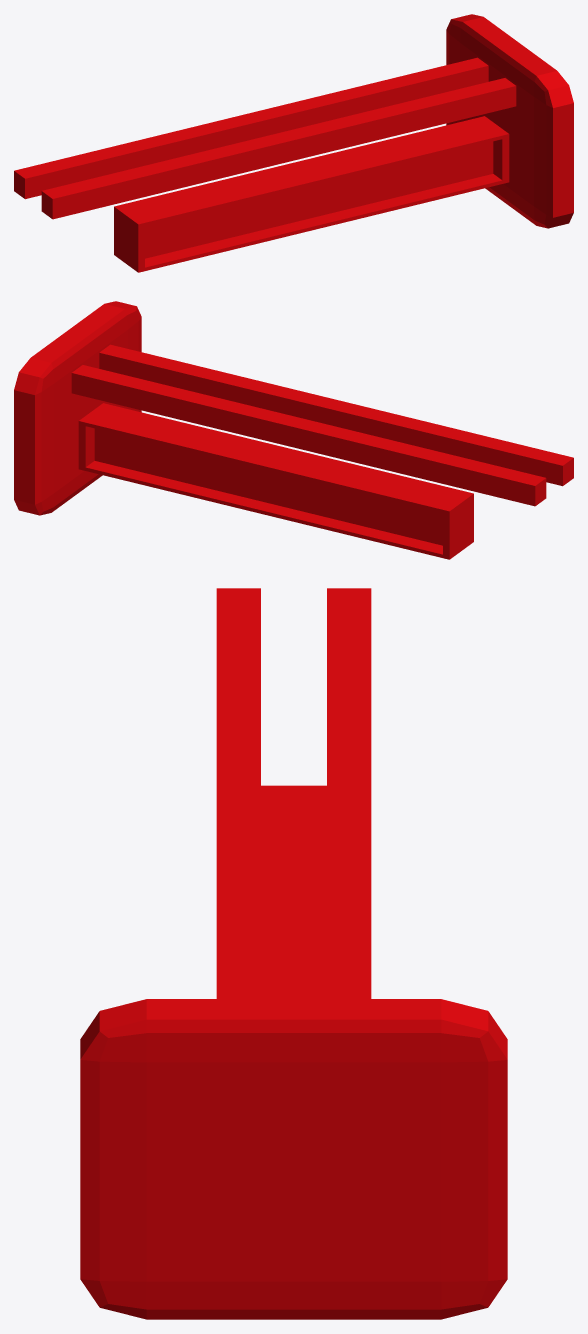
Rendered from Push.fbx.
3 views of the same model, one above another, from view 1: azimuth 30°, elevation 25°; view 2: azimuth 150°, elevation 25°; view 3: azimuth 270°, elevation 25° (orthographic). The views are drawn at different scales.
Visible parts, largest first — view 1: Cube.009; view 2: Cube.009; view 3: Cube.009.
Boxes of the visible parts, bbox=[...] form: Cube.009: bbox=[14, 14, 573, 272]; Cube.009: bbox=[14, 301, 573, 559]; Cube.009: bbox=[80, 588, 507, 1319].
Bounding box in the file's own units: 1326 × 388 × 501.
